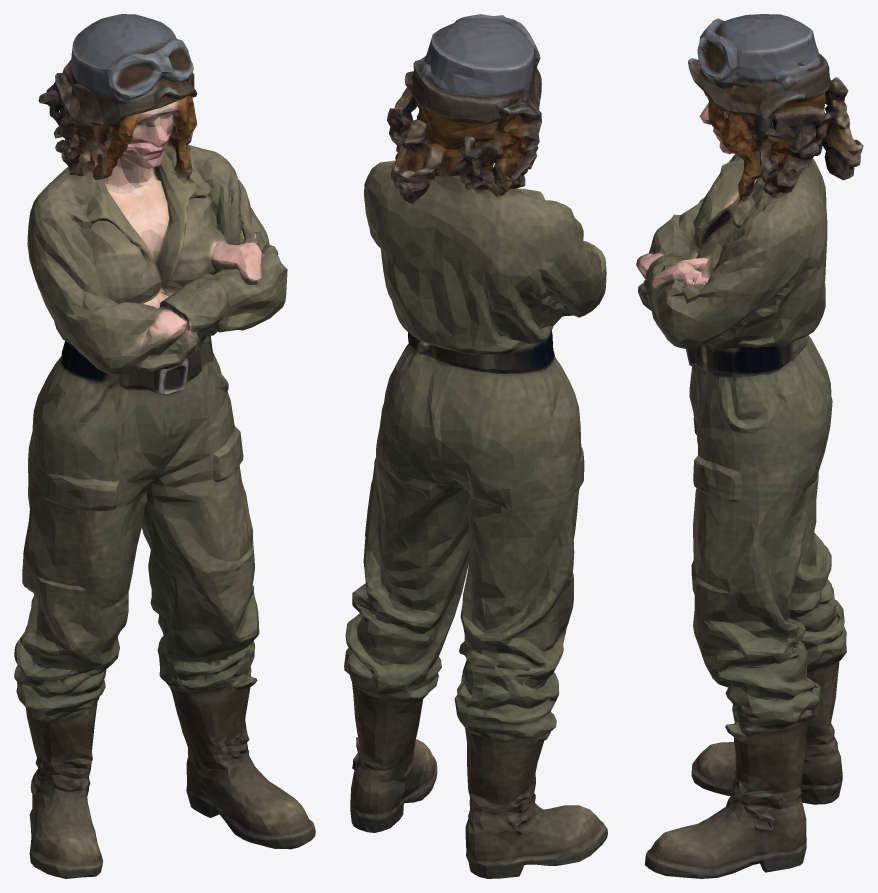
Rendered from crew_us_gunner_4.obj.
3 renders of one model, left to right at view 1: azimuth 30°, elevation 25°; view 2: azimuth 150°, elevation 25°; view 3: azimuth 270°, elevation 25°, orthographic. The views are drawn at different scales.
Visible parts, largest first — view 1: crew_us_gunner_4; view 2: crew_us_gunner_4; view 3: crew_us_gunner_4.
Boxes of the visible parts, x1=… form: crew_us_gunner_4: x1=14, y1=14, x2=315, y2=878; crew_us_gunner_4: x1=344, y1=14, x2=607, y2=878; crew_us_gunner_4: x1=636, y1=14, x2=863, y2=878.
Size of the model in its own units: 0.529 by 1.68 by 0.4335.
Materials: 1 (1 with a texture image).
